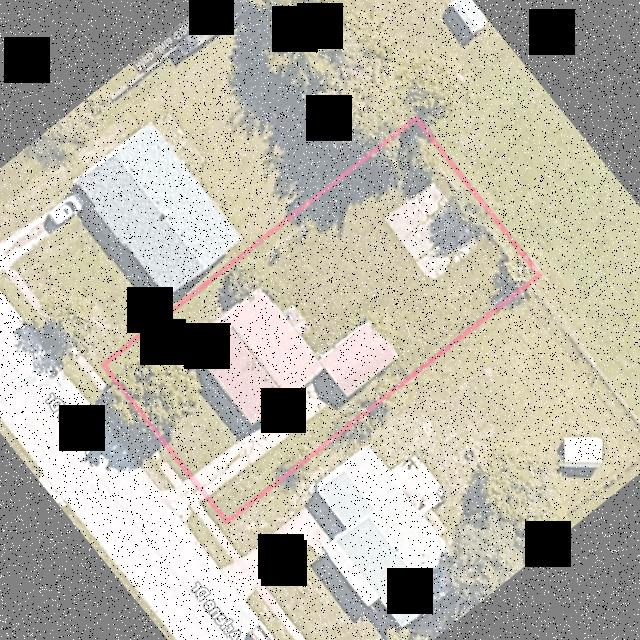Driveway: (193, 369, 342, 495)
Extra Driveway: (159, 478, 204, 525)
Extra Lawn: (73, 375, 175, 489), (93, 364, 188, 482), (184, 509, 213, 545), (198, 497, 226, 530)
Extra Sidewalk: (85, 369, 182, 487), (191, 502, 219, 535)
House: (187, 287, 322, 422)
Other: (385, 181, 475, 279), (319, 322, 397, 396), (282, 303, 310, 335)
Sidewalk: (173, 343, 273, 438)
